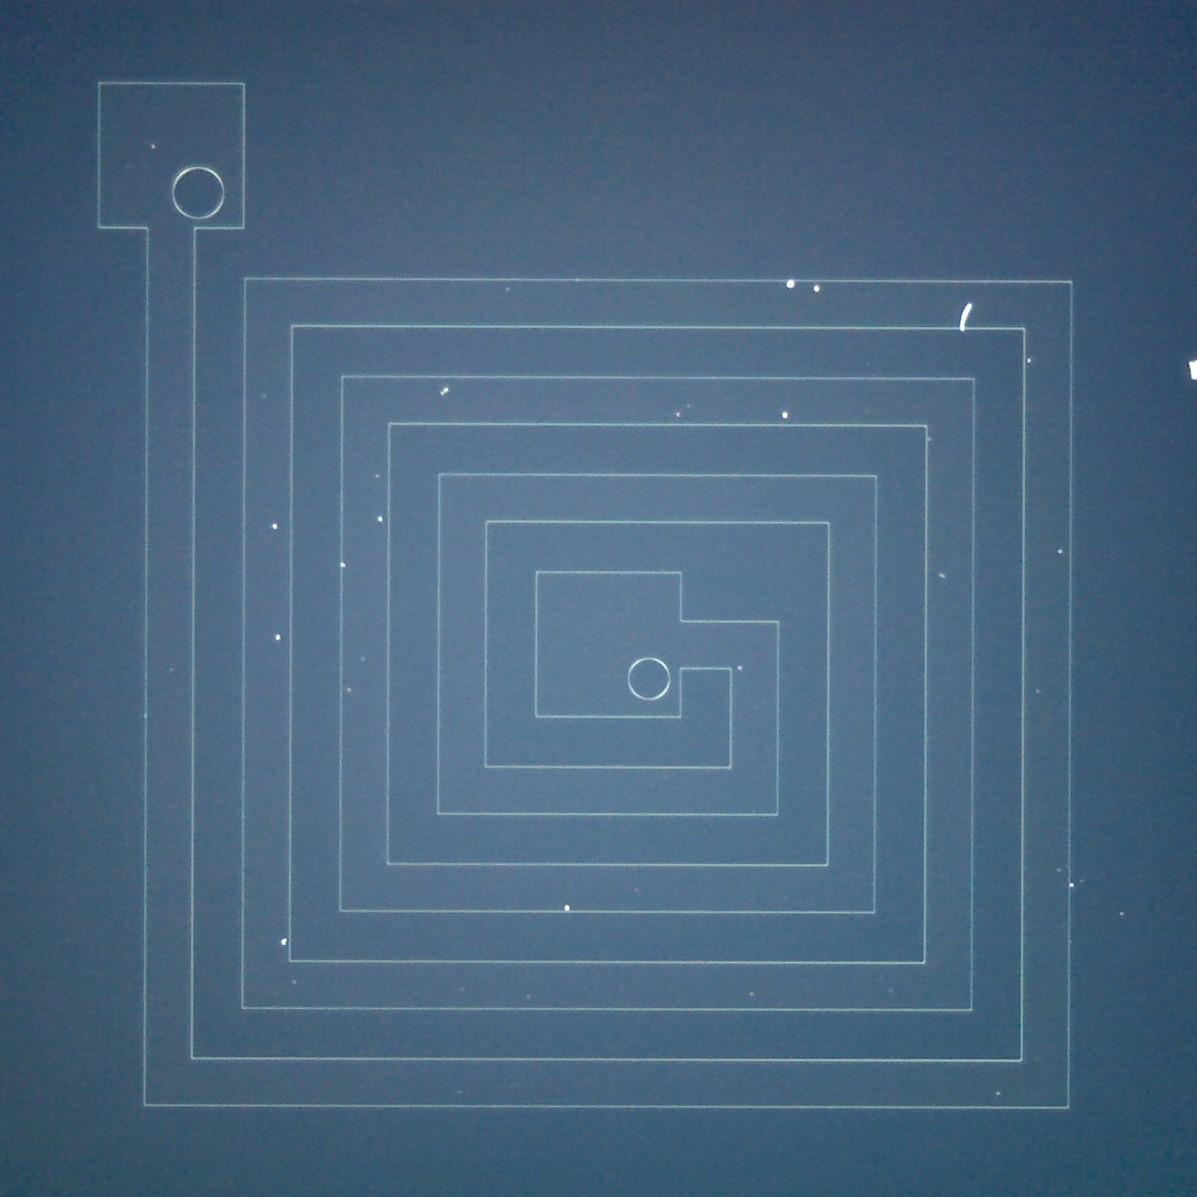B_point: (1172, 352, 1197, 387), (555, 899, 580, 917), (780, 274, 801, 296), (435, 381, 454, 403), (807, 278, 827, 298), (273, 933, 294, 951), (777, 407, 795, 423)
circle: (171, 166, 225, 220), (627, 658, 671, 702)
foreign: (955, 300, 978, 335)
s_point: (369, 510, 391, 529), (495, 282, 517, 300), (144, 137, 162, 156), (269, 627, 286, 647), (338, 682, 358, 698), (732, 660, 751, 676), (933, 568, 953, 583), (520, 989, 538, 1004), (1062, 878, 1079, 894), (1051, 544, 1068, 560), (368, 468, 385, 485), (333, 557, 351, 572), (682, 397, 698, 412), (1030, 683, 1047, 698), (1114, 907, 1131, 921), (882, 983, 901, 996), (742, 988, 762, 1000), (1021, 353, 1036, 368), (670, 408, 686, 422), (355, 652, 372, 666), (1050, 864, 1065, 878), (922, 433, 937, 447), (267, 518, 282, 534), (991, 1087, 1006, 1101), (288, 974, 301, 988), (1075, 875, 1090, 886), (453, 1086, 467, 1097)
